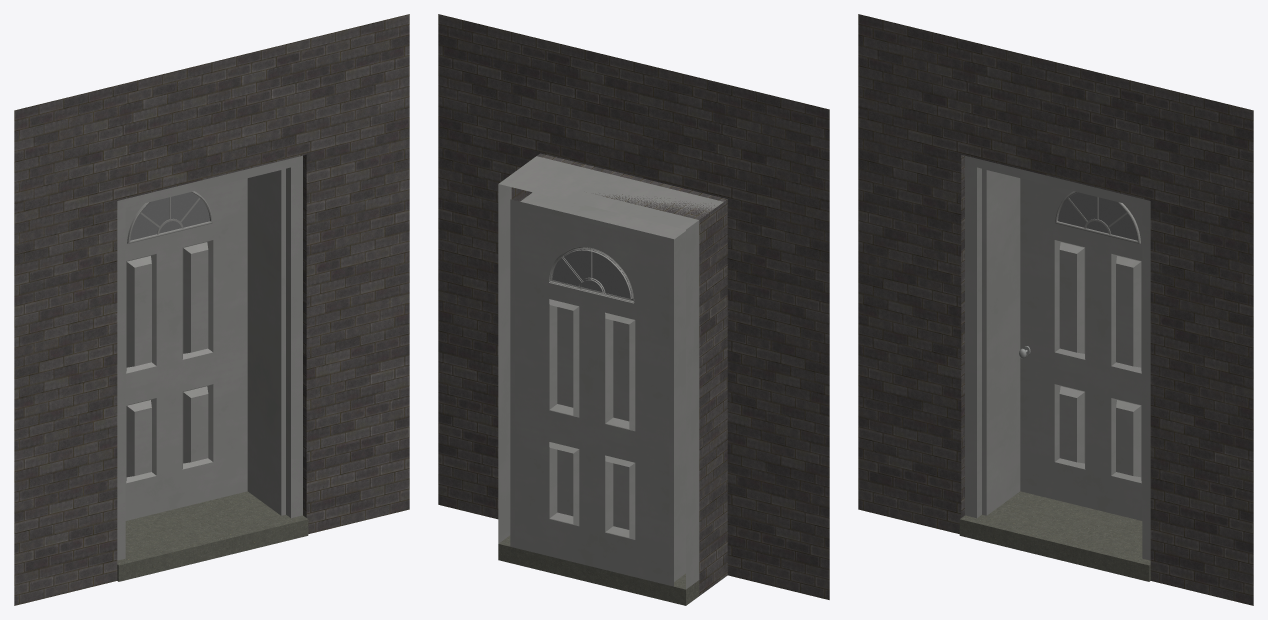
File: Sm_Door01.fbx
3 renders of one model, left to right at view 1: azimuth 30°, elevation 25°; view 2: azimuth 150°, elevation 25°; view 3: azimuth 330°, elevation 25°, orthographic.
Parts seen in each view (by area): view 1: Sm_Door01; view 2: Sm_Door01; view 3: Sm_Door01.
Part boxes in pixels (<box>): Sm_Door01: <box>14,14,409,605</box>; Sm_Door01: <box>438,14,829,605</box>; Sm_Door01: <box>858,14,1253,605</box>.
Bounding box in the file's own units: 251 × 51.01 × 300.
6 materials, 6 textured.
